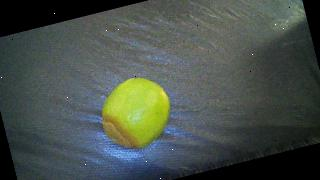DESECHO: (94, 72, 179, 156)
